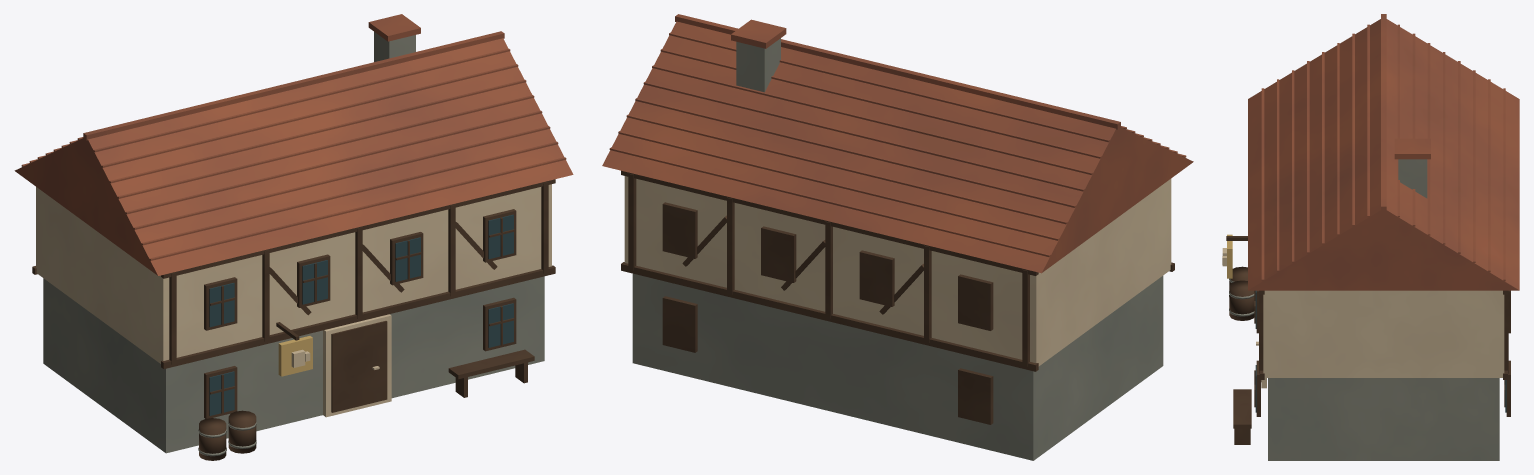
The model's file is inn.glb.
The picture shows the model from 3 angles, left to right: view 1: azimuth 30°, elevation 25°; view 2: azimuth 150°, elevation 25°; view 3: azimuth 270°, elevation 25°; orthographic projection. The views are drawn at different scales.
Visible parts, largest first — view 1: inn; view 2: inn; view 3: inn.
Boxes of the visible parts, bbox=[...] form: inn: bbox=[14, 14, 573, 460]; inn: bbox=[602, 14, 1193, 460]; inn: bbox=[1222, 14, 1519, 460].
Size of the model in its own units: 12.58 by 8.56 by 8.2.
1 material, 1 textured.
